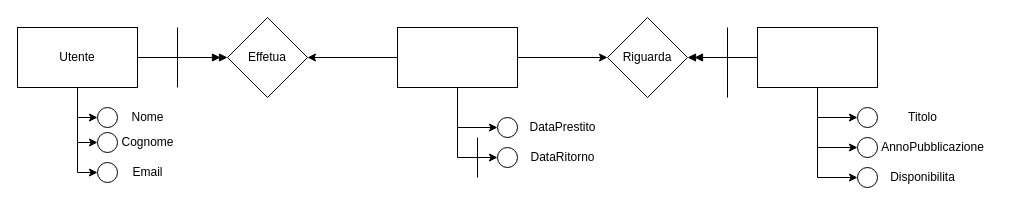
The diagram is 1015 pixels wide and 210 high, and some of its shapes have lost their labels. The shapes that lost their labels are listed below. From the top down, each one's centre as x and y in pixels, then its label:
the point at 457,57: Prestito
the point at 817,57: Libro
